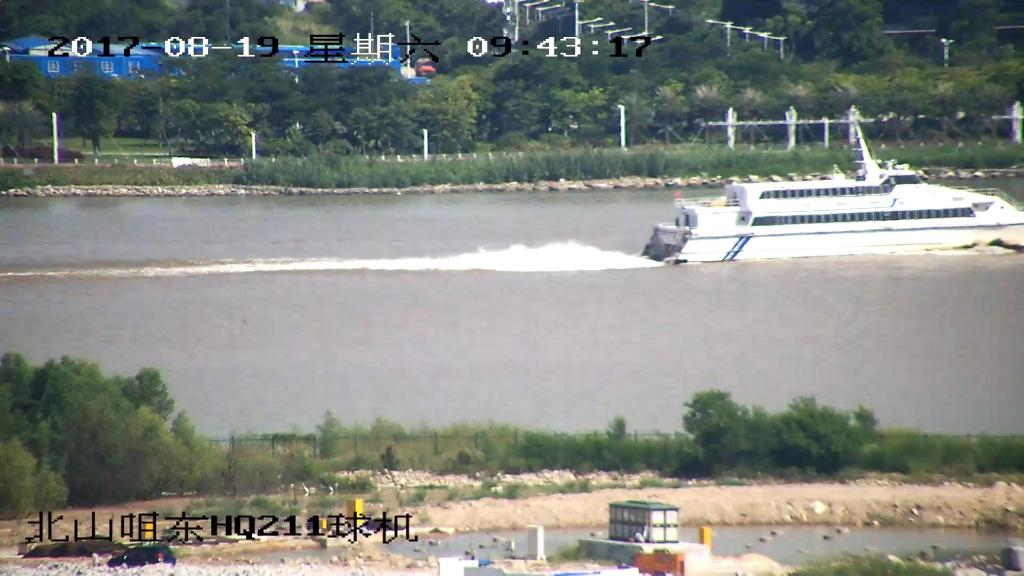PassengerShip: (612, 105, 1024, 271)
